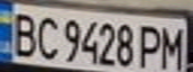2: (97, 18, 118, 66)
4: (78, 17, 100, 65)
8: (115, 20, 139, 69)
9: (57, 15, 84, 63)
B: (6, 8, 42, 59)
C: (30, 11, 60, 61)
M: (154, 23, 190, 71)
P: (136, 21, 166, 70)
